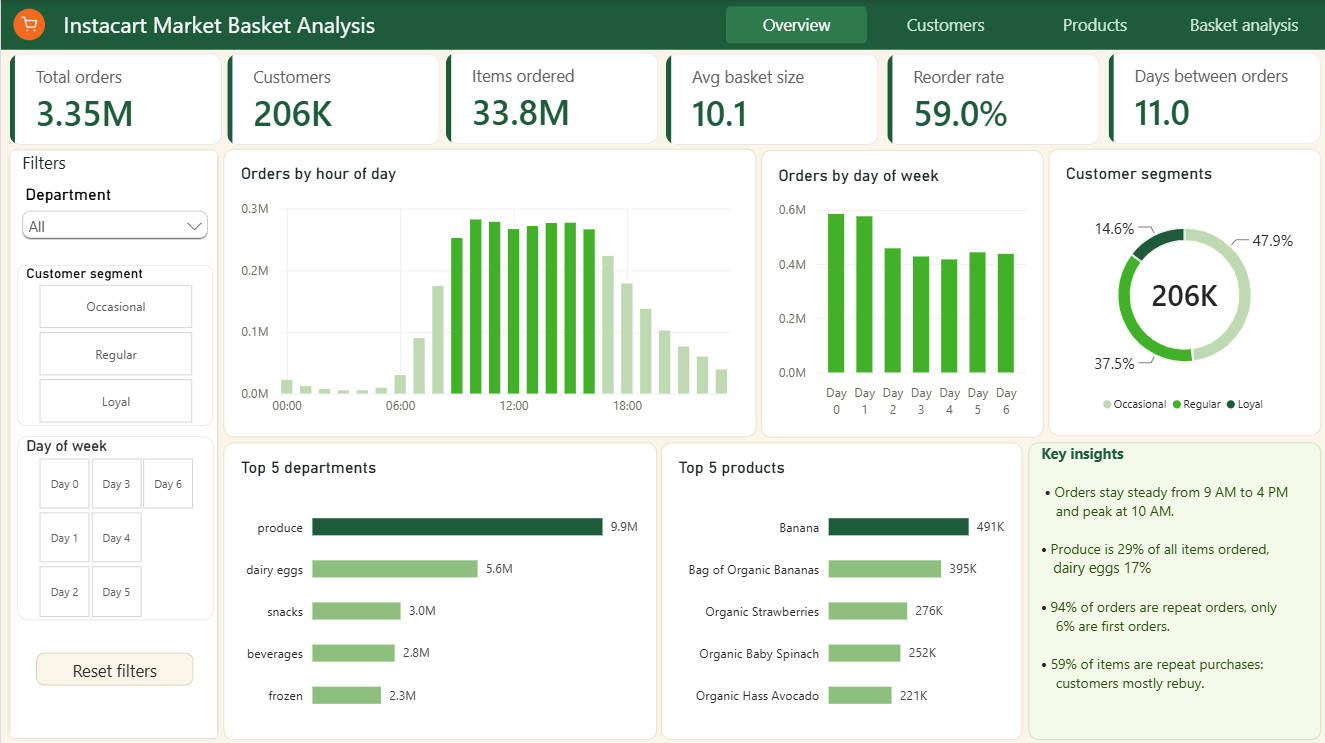

The dashboard page shown, as its layout file describes it:
{"tool":"powerbi","page":{"name":"Overview","canvas":[1280,720],"ordinal":0},"visuals":[{"type":"shape","box":[0,0,1280,48],"z":0},{"type":"textbox","box":[60,8,422.3,30],"z":1000},{"type":"pageNavigator","box":[700,6,568,36],"z":2000},{"type":"clusteredColumnChart","title":"Orders by hour of day","fields":{"Category":["dim_hour.hour_label"],"Y":["fact_orders.Total Orders"]},"box":[215,143,514,278.1],"z":3000},{"type":"clusteredColumnChart","title":"Orders by day of week","fields":{"Category":["dim_day.day_label"],"Y":["fact_orders.Total Orders"]},"box":[734,145,273,277.5],"z":4000},{"type":"donutChart","title":"Customer segments","fields":{"Category":["dim_segment.Segment Short"],"Y":["fact_orders.Customers"]},"box":[1011,144,263,276.8],"z":5000},{"type":"clusteredBarChart","title":"Top 5 departments","fields":{"Category":["dim_department.department"],"Y":["fact_orders.Items Ordered"]},"box":[215,427,418,287],"z":6000},{"type":"clusteredBarChart","title":"Top 5 products","fields":{"Category":["fact_products.product_name"],"Y":["Sum(fact_products.orders)"]},"box":[637,427.2,349,287],"z":7000},{"type":"shape","box":[7.6,144.1,203.5,571],"z":8000},{"type":"textbox","box":[20,146,120,24],"z":9000},{"type":"slicer","fields":{"Values":["dim_department.department"]},"box":[16.2,178.8,188.8,63.8],"z":10000},{"type":"slicer","fields":{"Values":["dim_segment.Segment Short"]},"box":[16.2,256.2,188.8,155],"z":11000},{"type":"slicer","fields":{"Values":["dim_day.day_label"]},"box":[15.7,421,189.4,177.3],"z":12000},{"type":"cardVisual","fields":{"Data":["fact_orders.Total Orders"]},"box":[8.4,51.9,205,88.1],"z":13000},{"type":"cardVisual","fields":{"Data":["fact_orders.Customers"]},"box":[218,51.9,205,88.1],"z":14000},{"type":"cardVisual","fields":{"Data":["fact_orders.Items Ordered"]},"box":[430,51,205,88.1],"z":15000},{"type":"cardVisual","fields":{"Data":["fact_orders.Avg Basket Size"]},"box":[642,51.9,205,88.1],"z":16000},{"type":"cardVisual","fields":{"Data":["fact_orders.Reorder Rate"]},"box":[855,51.9,205,88.1],"z":17000},{"type":"cardVisual","fields":{"Data":["fact_orders.Avg Days Between Orders"]},"box":[1069,51,205,88.1],"z":18000},{"type":"textbox","box":[991.4,427.2,282.1,287],"z":19000},{"type":"actionButton","box":[33.8,629.8,152,32],"z":20000},{"type":"image","box":[12,9,30,30],"z":21000}]}

Visuals, with their boxes in screenshot pixels (x1, y1, x2, y2), scaled from the page's 1280x720 canvas onto the 1325x743 screenshot:
shape: crop(0, 0, 1324, 50)
textbox: crop(62, 8, 499, 39)
pageNavigator: crop(725, 6, 1313, 43)
"Orders by hour of day" clusteredColumnChart: crop(223, 148, 755, 435)
"Orders by day of week" clusteredColumnChart: crop(760, 150, 1042, 436)
"Customer segments" donutChart: crop(1047, 149, 1319, 434)
"Top 5 departments" clusteredBarChart: crop(223, 441, 655, 737)
"Top 5 products" clusteredBarChart: crop(659, 441, 1021, 737)
shape: crop(8, 149, 219, 738)
textbox: crop(21, 151, 145, 175)
slicer - dim_department.department: crop(17, 185, 212, 250)
slicer - dim_segment.Segment Short: crop(17, 264, 212, 424)
slicer - dim_day.day_label: crop(16, 434, 212, 617)
cardVisual - fact_orders.Total Orders: crop(9, 54, 221, 144)
cardVisual - fact_orders.Customers: crop(226, 54, 438, 144)
cardVisual - fact_orders.Items Ordered: crop(445, 53, 657, 144)
cardVisual - fact_orders.Avg Basket Size: crop(665, 54, 877, 144)
cardVisual - fact_orders.Reorder Rate: crop(885, 54, 1097, 144)
cardVisual - fact_orders.Avg Days Between Orders: crop(1107, 53, 1319, 144)
textbox: crop(1026, 441, 1318, 737)
actionButton: crop(35, 650, 192, 683)
image: crop(12, 9, 43, 40)
